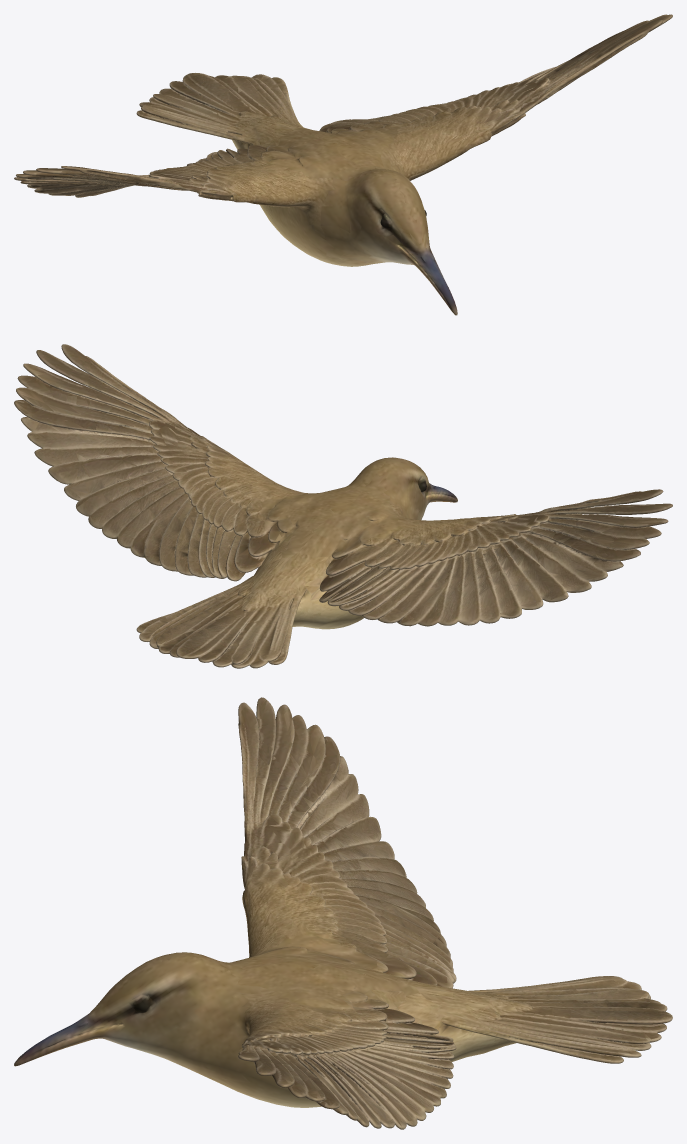
File: Acrocephalus_stentoreus.glb
3 renders of one model, top to bottom at view 1: azimuth 30°, elevation 25°; view 2: azimuth 150°, elevation 25°; view 3: azimuth 270°, elevation 25°, orthographic. The views are drawn at different scales.
Visible parts, largest first — view 1: orient; view 2: orient; view 3: orient.
Part boxes in pixels (bbox=[...]): orient: bbox=[14, 14, 672, 315]; orient: bbox=[14, 344, 672, 668]; orient: bbox=[14, 697, 672, 1129].
Bounding box in the file's own units: 0.5 × 0.1351 × 0.3648.
1 material, 1 textured.
